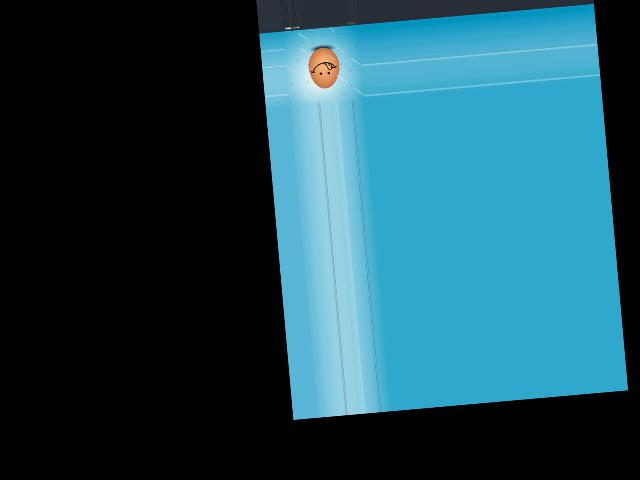egg: (307, 46, 341, 89)
